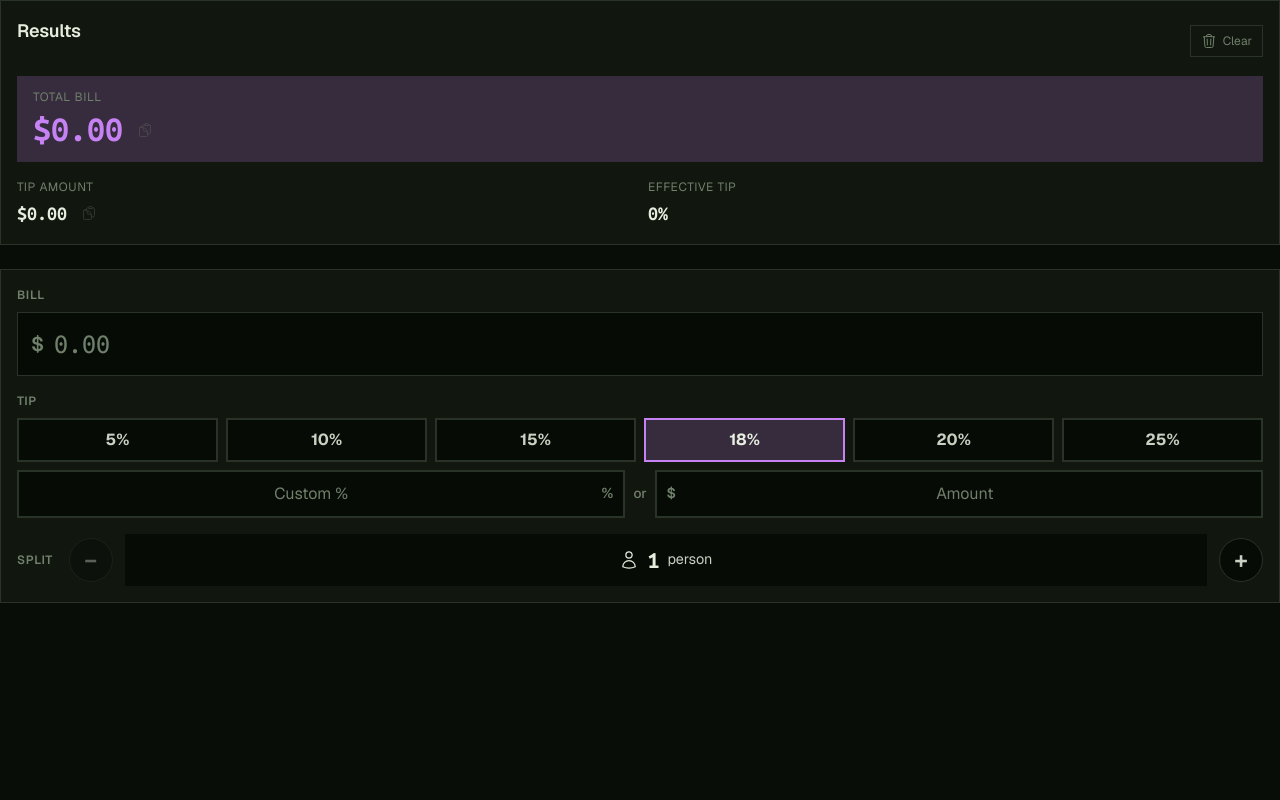
Test: Tip calculator › leads with the total, then each person's share when splitting, and is accessible
Check: the heading "Results" is shown, box left=17, top=17, right=81, bottom=44
Check: the text "Total bill" is shown, box left=33, top=89, right=102, bottom=105
In the number field labelled "Bill": (640, 344) left=17, top=312, right=1263, bottom=376, type "75.48"
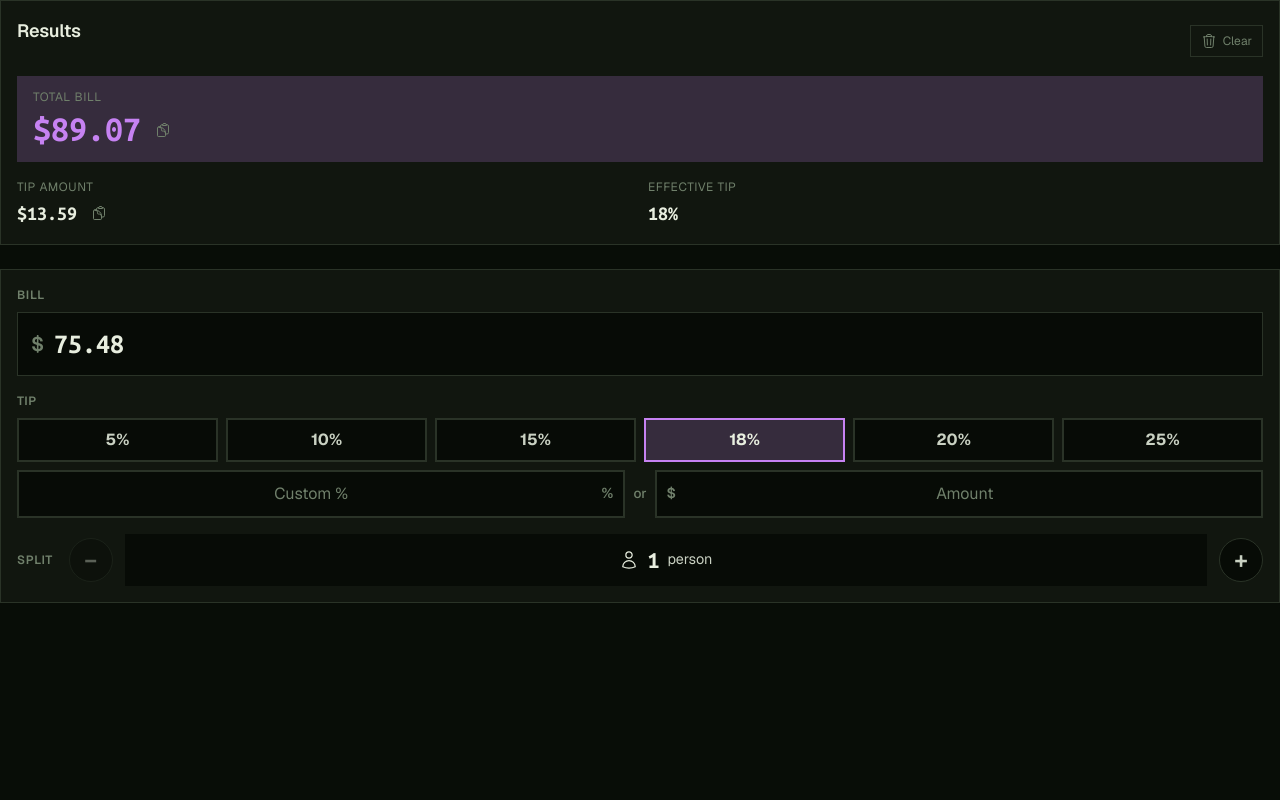
Click the button "15%": (536, 440) left=435, top=418, right=636, bottom=462
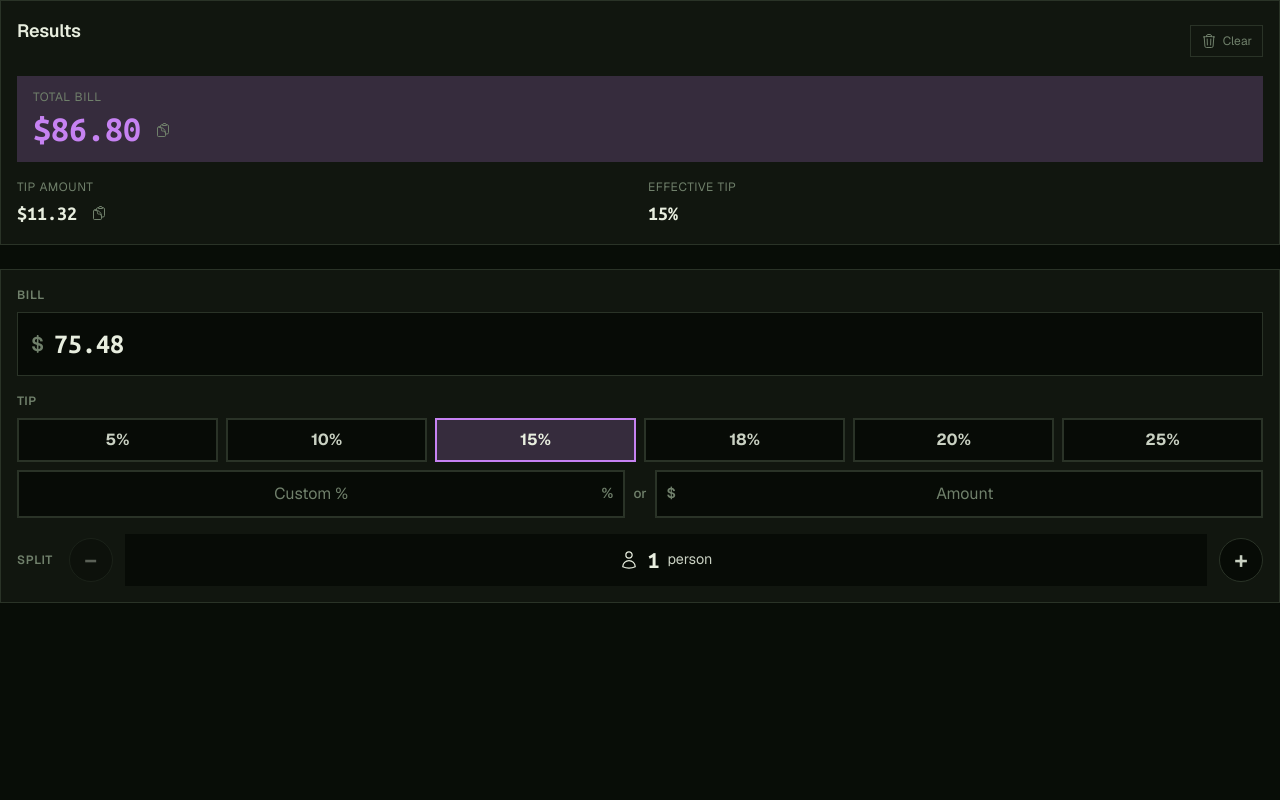
Check: the text "$86.80" is shown, box left=33, top=110, right=141, bottom=150
Check: the text "$11.32" is shown, box left=17, top=198, right=77, bottom=228
Click the button named "One more person": (1241, 560) left=1219, top=538, right=1263, bottom=582
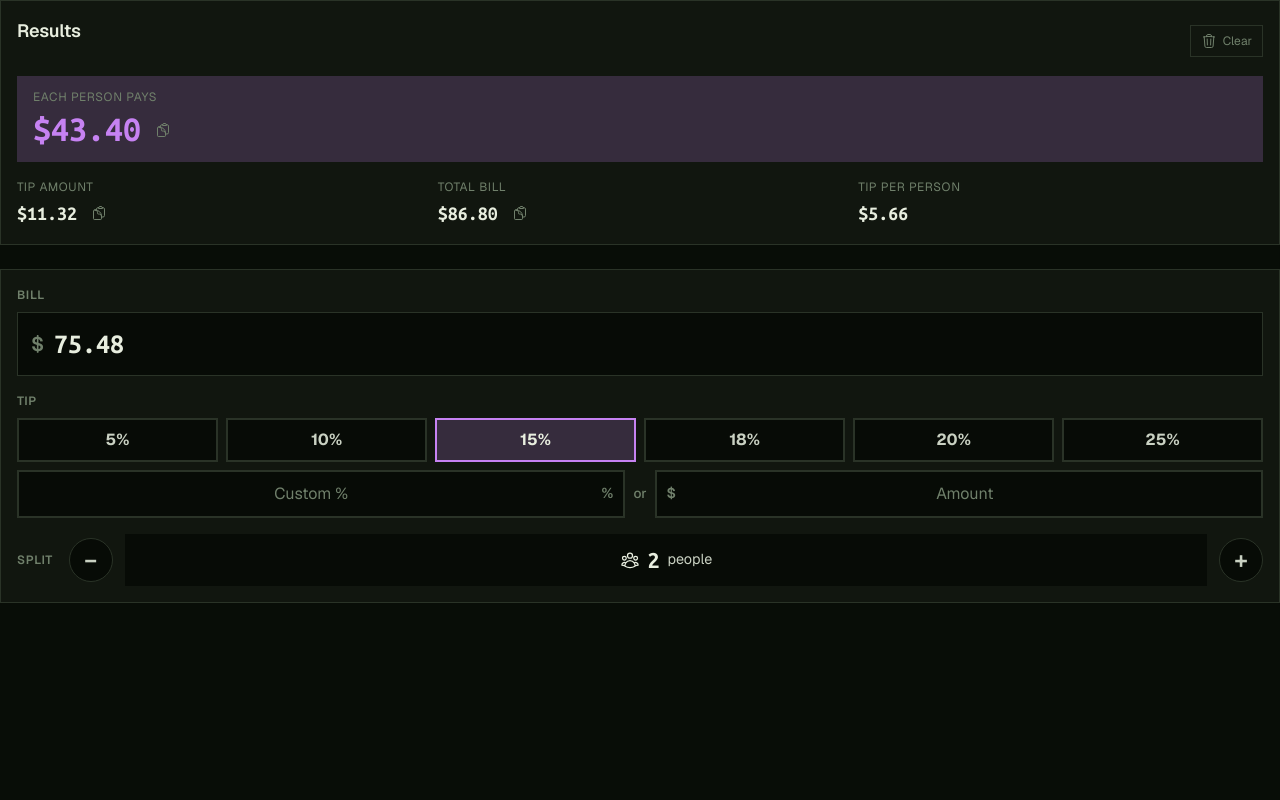
Check: the text "Each person pays" is shown, box left=33, top=89, right=157, bottom=105
Check: the text "$43.40" is shown, box left=33, top=110, right=141, bottom=150
Check: the text "Tip Per Person" is shown, box left=858, top=179, right=961, bottom=195
Custom dollar tip overrides the preset
In the number field named "Custom tip amount": (959, 494) left=655, top=470, right=1263, bottom=518, type "10"
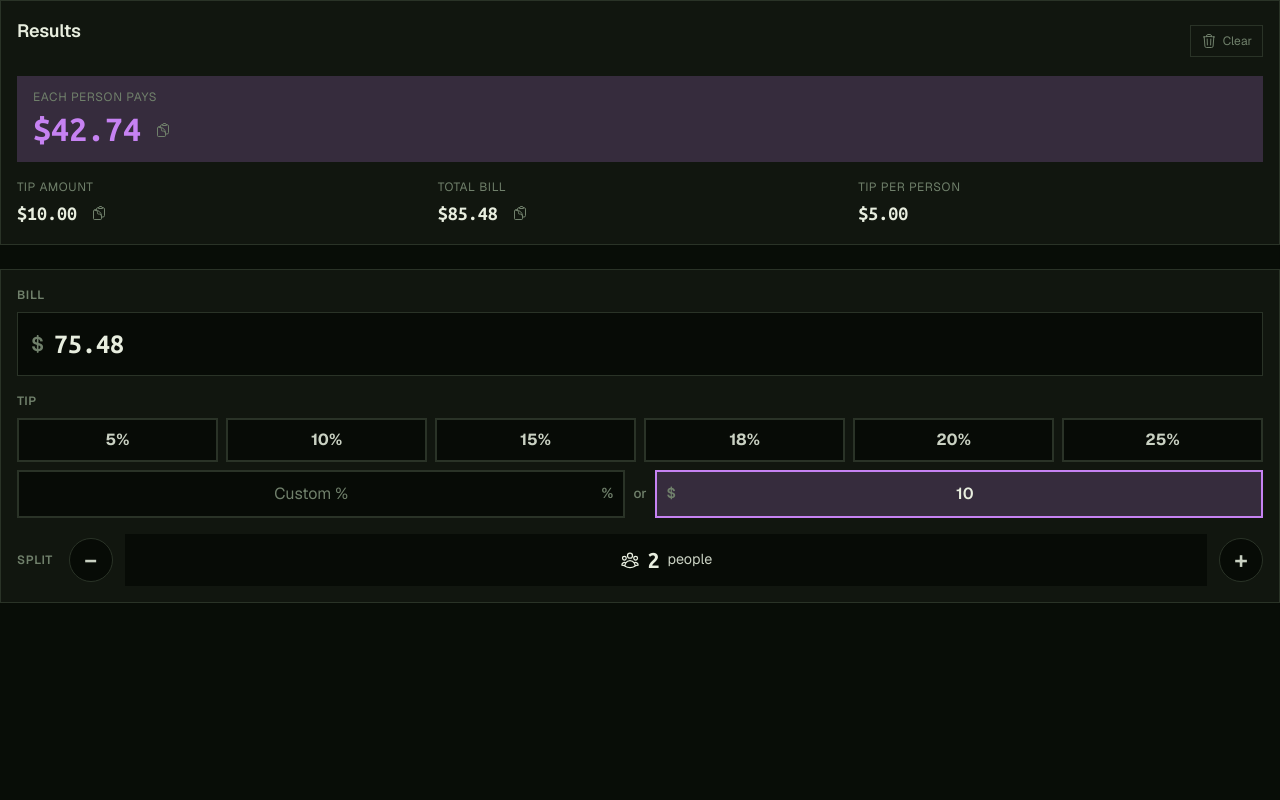
Check: the text "$10.00" is shown, box left=17, top=198, right=77, bottom=228
Check: the text "$42.74" is shown, box left=33, top=110, right=141, bottom=150
Click the button "Clear": (1226, 40) left=1190, top=24, right=1263, bottom=56
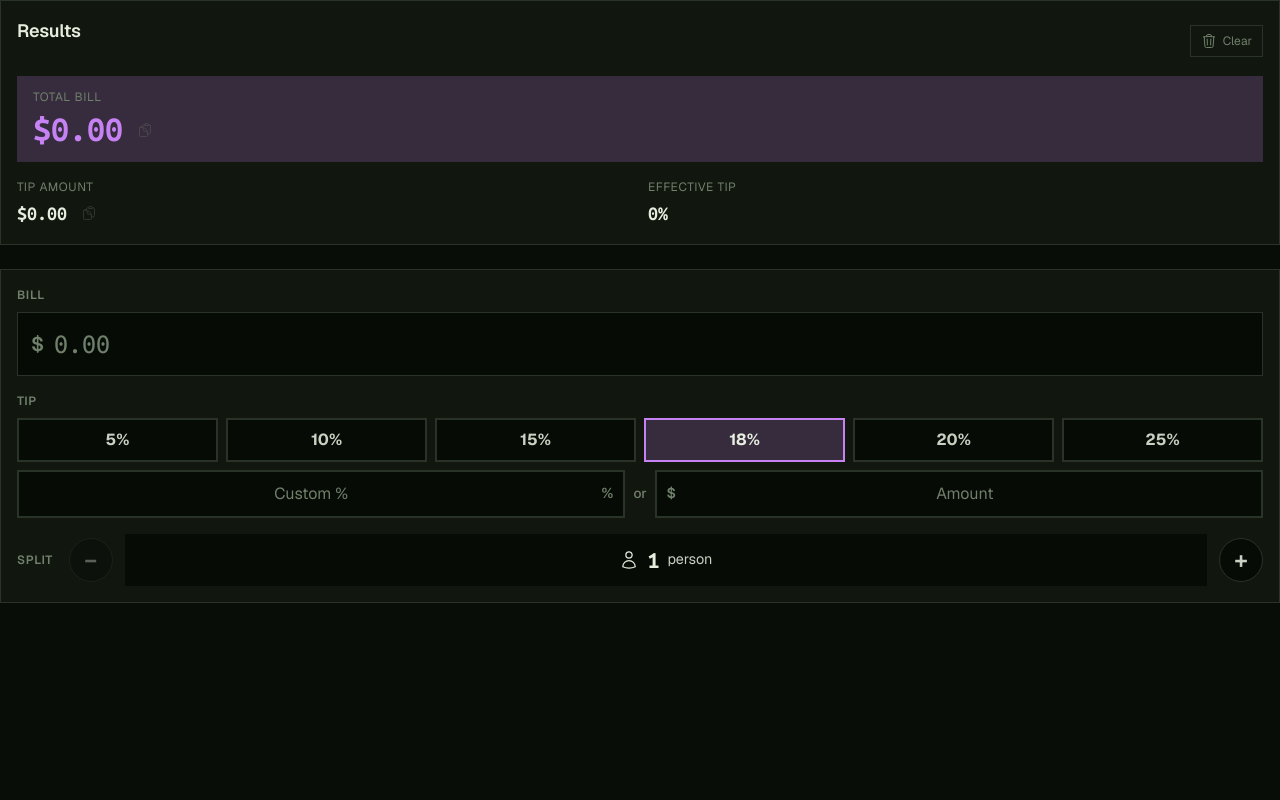
Check: the number field labelled "Bill" is empty, box left=17, top=312, right=1263, bottom=376
